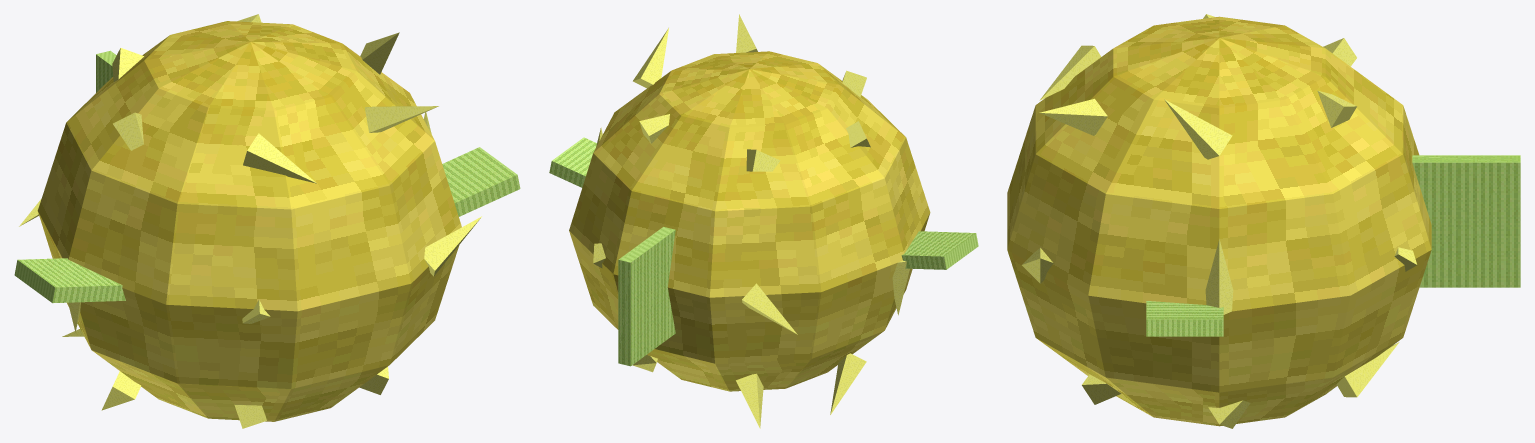
The model's file is baiacu_de_enxofre.glb.
3 renders of one model, left to right at view 1: azimuth 30°, elevation 25°; view 2: azimuth 150°, elevation 25°; view 3: azimuth 270°, elevation 25°, orthographic. The views are drawn at different scales.
Parts seen in each view (by area): view 1: baiacu_de_enxofre; view 2: baiacu_de_enxofre; view 3: baiacu_de_enxofre.
Boxes of the visible parts, <box> form: baiacu_de_enxofre: <box>14,14,520,428</box>; baiacu_de_enxofre: <box>549,14,978,428</box>; baiacu_de_enxofre: <box>1007,14,1520,428</box>.
Bounding box in the file's own units: 0.6416 × 0.4704 × 0.5965.
1 material, 1 textured.
